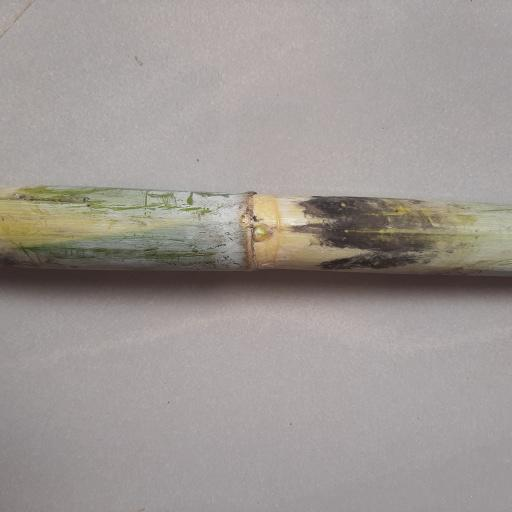Bud: (250, 223, 274, 243)
